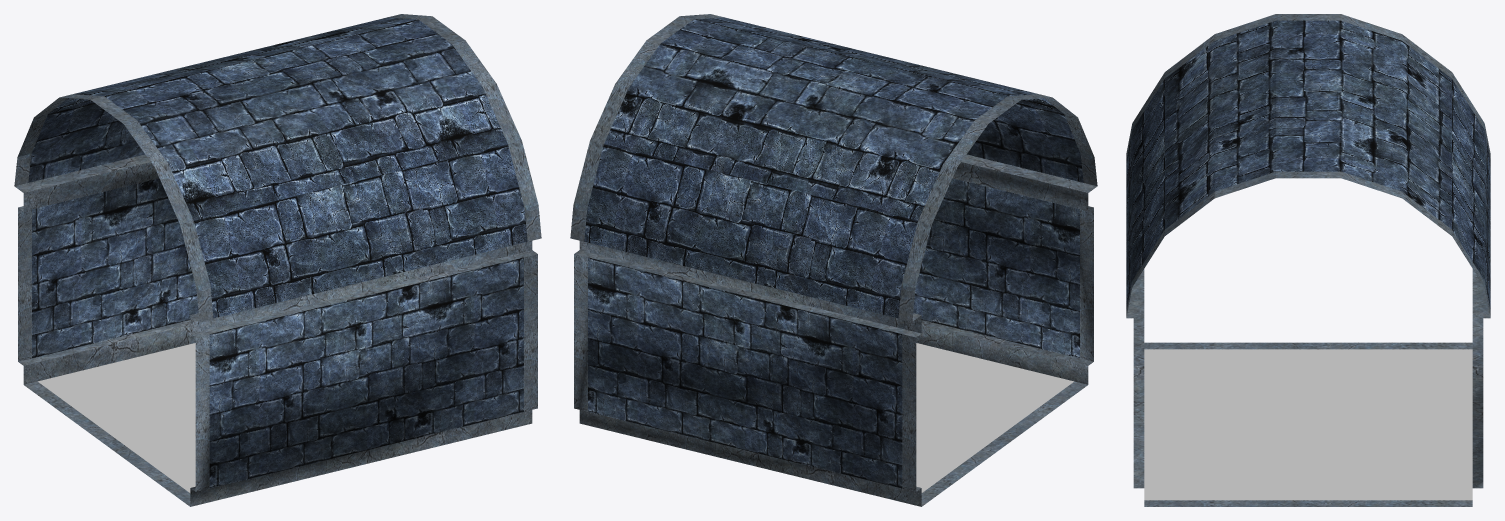
The model's file is Wall_5Part.FBX.
3 views of the same model, side by side, from view 1: azimuth 30°, elevation 25°; view 2: azimuth 150°, elevation 25°; view 3: azimuth 270°, elevation 25° (orthographic).
Parts seen in each view (by area): view 1: Object02; view 2: Object02; view 3: Object02.
Boxes of the visible parts, left/top/right/bottom form: Object02: left=14, top=14, right=541, bottom=506; Object02: left=570, top=14, right=1097, bottom=506; Object02: left=1126, top=14, right=1490, bottom=506.
Size of the model in its own units: 45.93 by 42.86 by 43.05.
